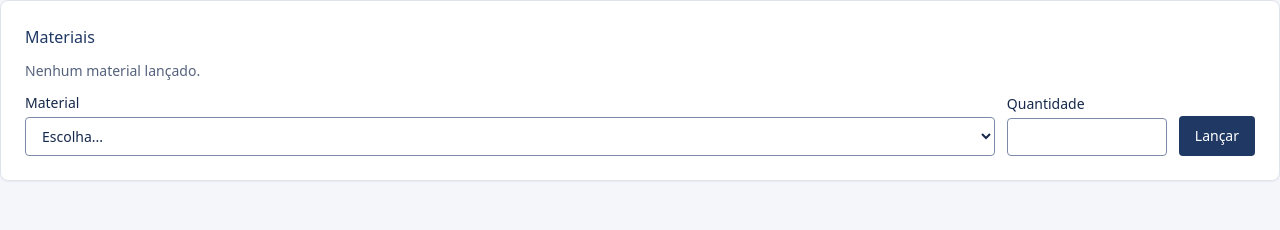
Test case: Materiais do chamado (RF07) › lança o material escolhido, com a quantidade como número, e recarrega o chamado
Select "Cabo flexível (m)" in the dropdown labelled "Material" at (510, 136), box [25, 117, 995, 156]
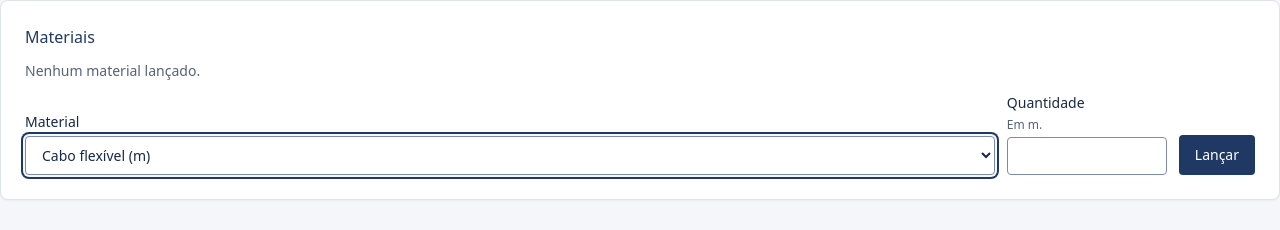
Expected: the text "Em m." is shown, [1007, 116, 1042, 133]
Type "3.5" into the number field labelled "Quantidade" at (1087, 156), box [1007, 137, 1167, 175]
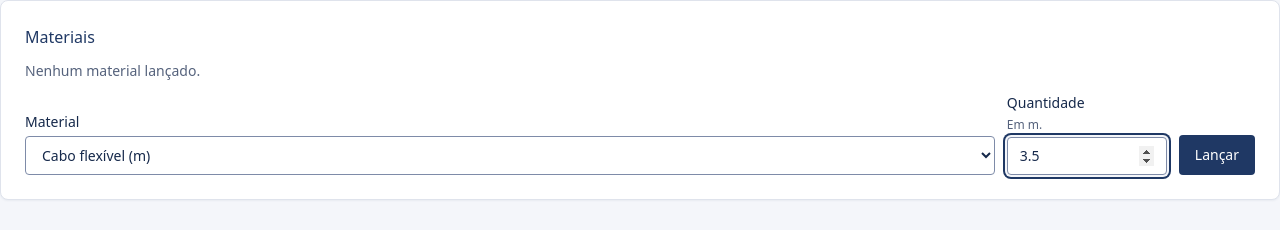
Click the button "Lançar" at (1217, 155), box [1179, 135, 1255, 175]
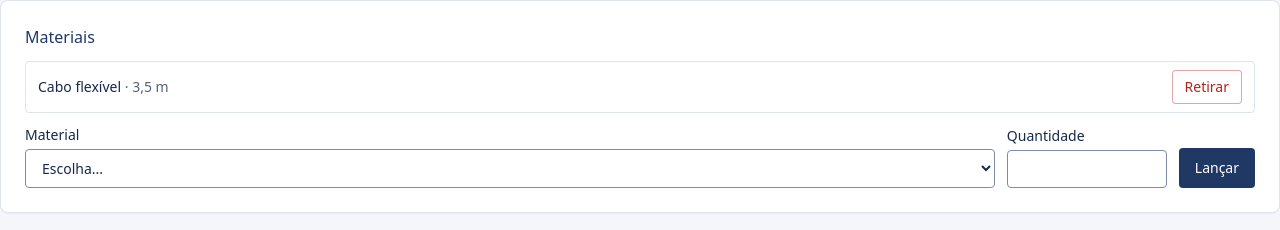
Expected: the text "· 3,5 m" is shown, [125, 77, 169, 96]
